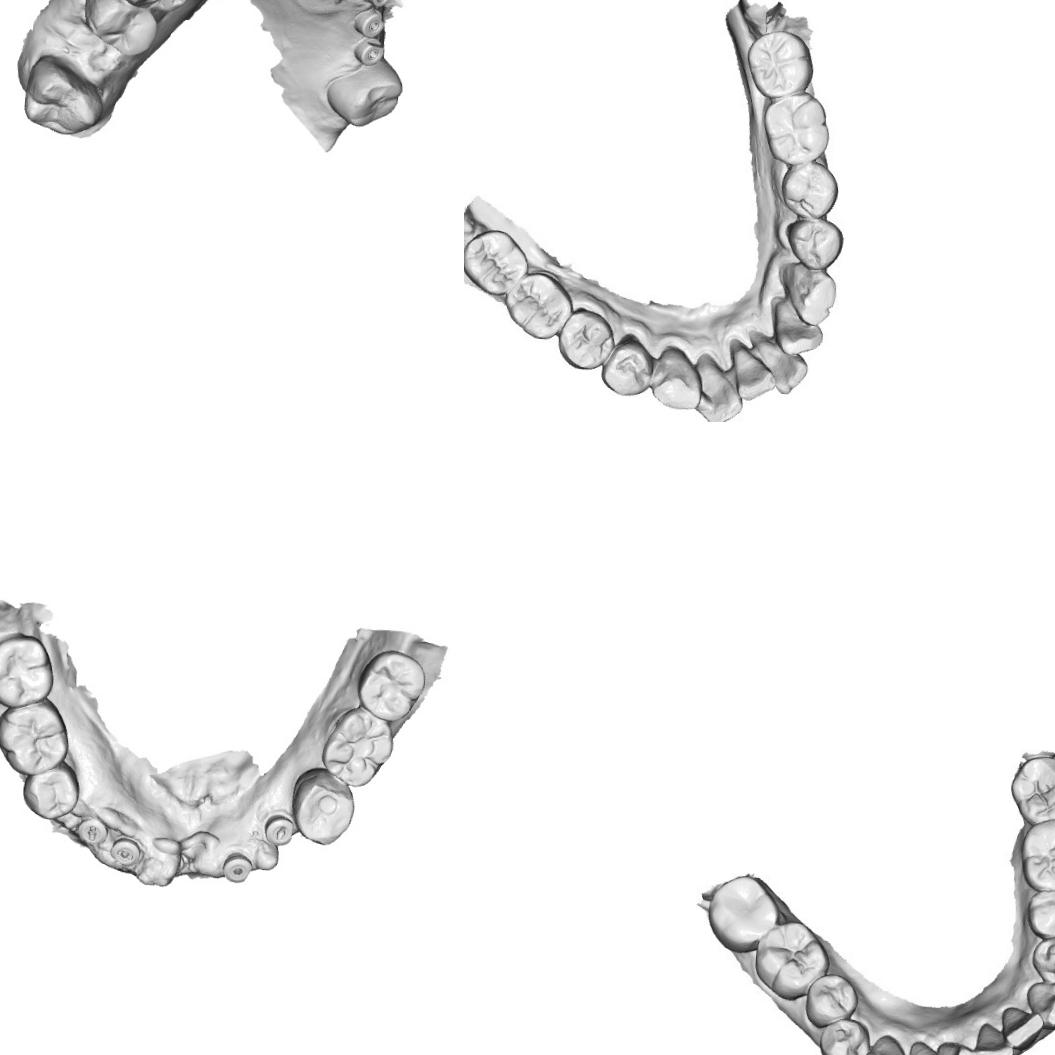canine: (774, 259, 840, 329), (647, 341, 705, 414), (1020, 978, 1055, 1031), (861, 1034, 909, 1055)
implant: (350, 32, 386, 66), (350, 5, 386, 38), (222, 852, 252, 882), (359, 0, 393, 8)
implant_minus: (259, 815, 294, 846), (106, 836, 140, 866), (76, 812, 106, 845)
incisor: (689, 351, 746, 422), (748, 335, 811, 396), (768, 297, 826, 358), (726, 346, 780, 404), (1001, 1006, 1045, 1052), (969, 1021, 1017, 1055), (935, 1039, 978, 1055), (903, 1041, 952, 1055)
molar: (19, 52, 106, 140), (749, 915, 834, 1003), (704, 870, 785, 958), (323, 48, 405, 130), (324, 707, 403, 786), (758, 89, 834, 169), (502, 266, 577, 342), (742, 28, 816, 102), (464, 225, 532, 298), (0, 700, 68, 770), (358, 652, 426, 721), (1007, 751, 1055, 828), (0, 636, 50, 705), (1016, 815, 1055, 895)
premolar: (292, 770, 354, 846), (79, 0, 160, 58), (554, 306, 620, 372), (775, 160, 841, 221), (803, 968, 865, 1028), (598, 334, 655, 399), (780, 216, 846, 272), (20, 759, 78, 821), (816, 1013, 873, 1055), (1024, 932, 1055, 991), (1024, 886, 1055, 942)
